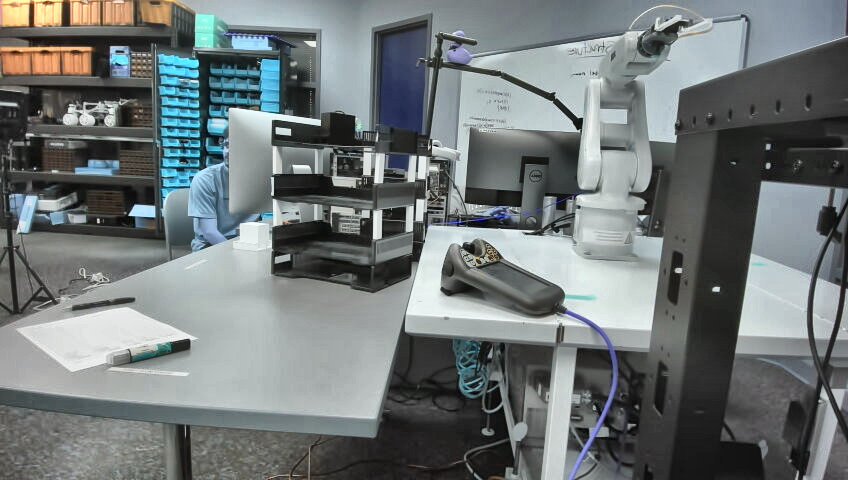black pallet: (311, 104, 360, 144)
